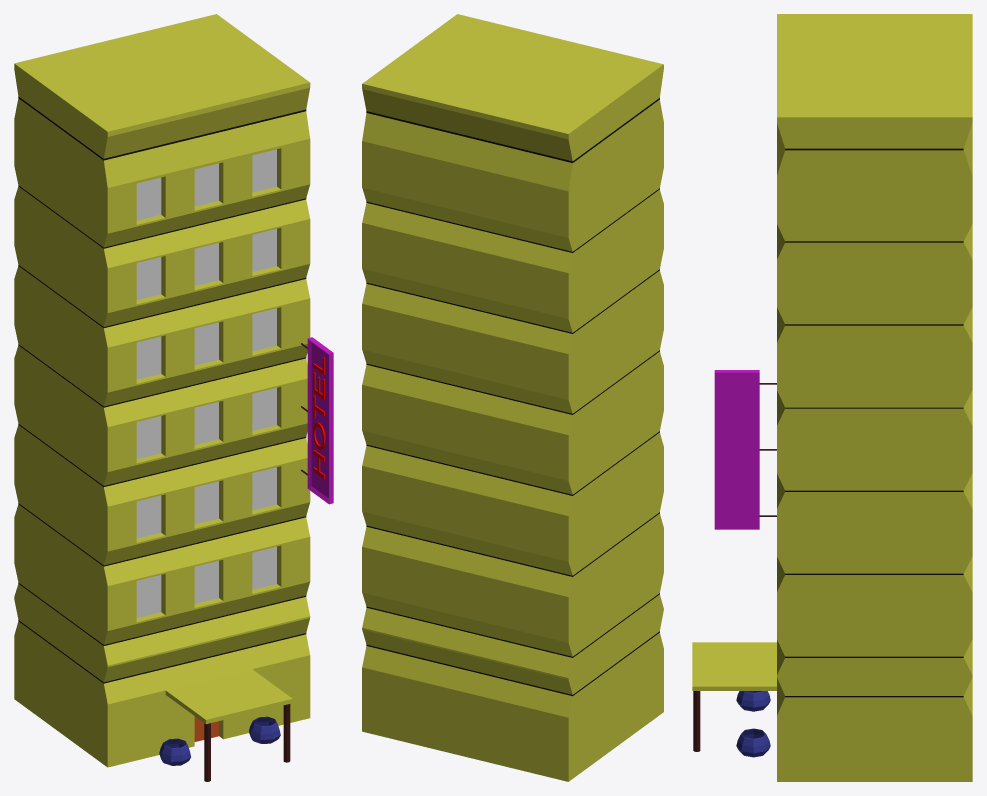
Rendered from building_001.FBX.
The picture shows the model from 3 angles, left to right: view 1: azimuth 30°, elevation 25°; view 2: azimuth 150°, elevation 25°; view 3: azimuth 270°, elevation 25°; orthographic projection. The views are drawn at different scales.
Parts seen in each view (by area): view 1: building_low; view 2: building_low; view 3: building_low.
Boxes of the visible parts, bbox=[...] form: building_low: bbox=[14, 14, 333, 781]; building_low: bbox=[362, 14, 663, 781]; building_low: bbox=[692, 14, 972, 781].
Size of the model in its own units: 19.69 by 59.06 by 22.55.
